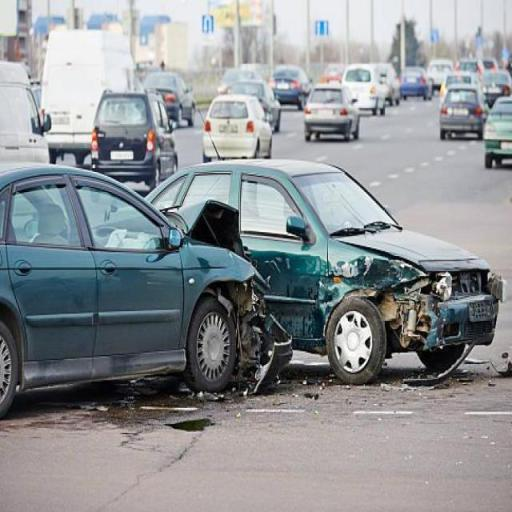Car: (142, 142, 510, 370), (2, 158, 293, 402), (39, 26, 141, 158), (90, 91, 177, 174), (202, 99, 275, 162), (306, 79, 358, 136), (442, 81, 486, 137), (484, 98, 512, 164), (344, 68, 380, 110), (270, 68, 308, 100), (397, 67, 430, 103)
Minor Accident: (1, 144, 508, 402)
Not Accident: (38, 26, 196, 184), (306, 61, 432, 144), (202, 70, 280, 162), (437, 62, 491, 140)
